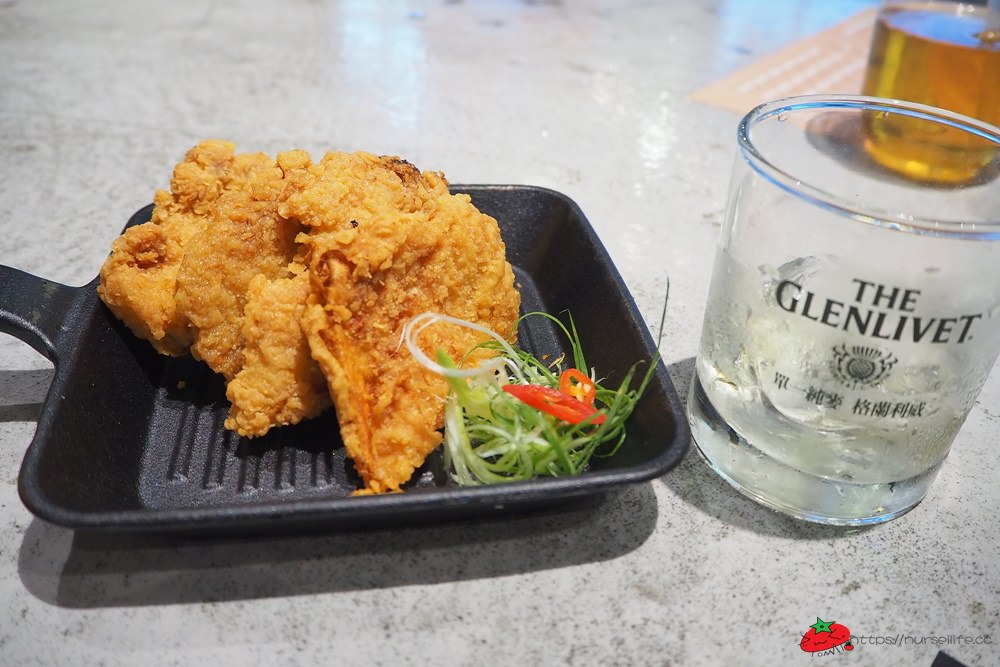fried_chicken: (162, 169, 488, 425)
